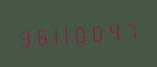four: (107, 18, 121, 43)
one: (47, 22, 61, 48), (62, 21, 76, 47)
seven: (122, 16, 136, 42)
six: (32, 23, 46, 49)
three: (17, 24, 31, 50)
zero: (77, 20, 91, 46), (92, 19, 106, 45)
